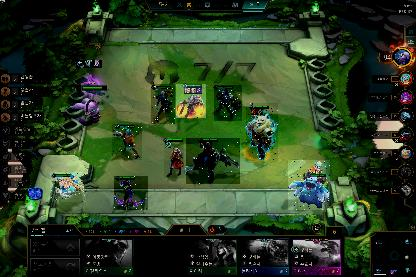2_diana: (164, 138, 184, 178)
2_leesin: (151, 84, 175, 124)
2_nunu: (288, 160, 330, 210)
2_olaf: (176, 84, 206, 118)
2_rengar: (186, 138, 240, 184)
2_seraphine: (50, 172, 86, 202)
2_sylas: (214, 85, 242, 121)
2_varus: (114, 176, 148, 210)
2_volibear: (246, 103, 278, 163)
2_zeri: (112, 124, 142, 160)
